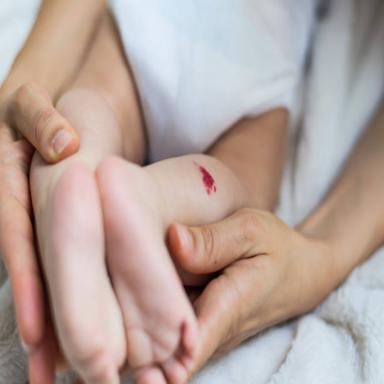Hemangiome: (199, 167, 215, 189), (206, 189, 211, 195), (214, 186, 216, 192)
